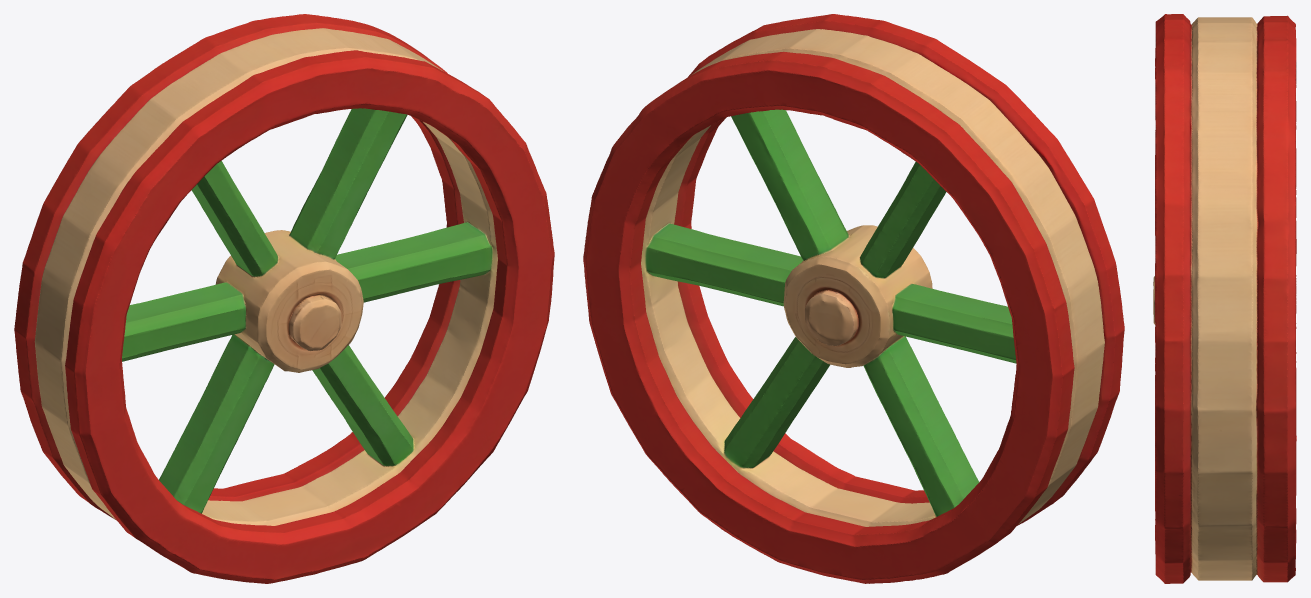
The model's file is base_basic_pbr.fbx.
3 renders of one model, left to right at view 1: azimuth 30°, elevation 25°; view 2: azimuth 150°, elevation 25°; view 3: azimuth 270°, elevation 25°, orthographic.
Parts seen in each view (by area): view 1: model; view 2: model; view 3: model.
Part boxes in pixels (bbox=[...]): model: bbox=[14, 14, 554, 583]; model: bbox=[583, 14, 1124, 583]; model: bbox=[1153, 14, 1296, 583].
Bounding box in the file's own units: 174 × 177 × 44.53.
Materials: 1 (1 with a texture image).
